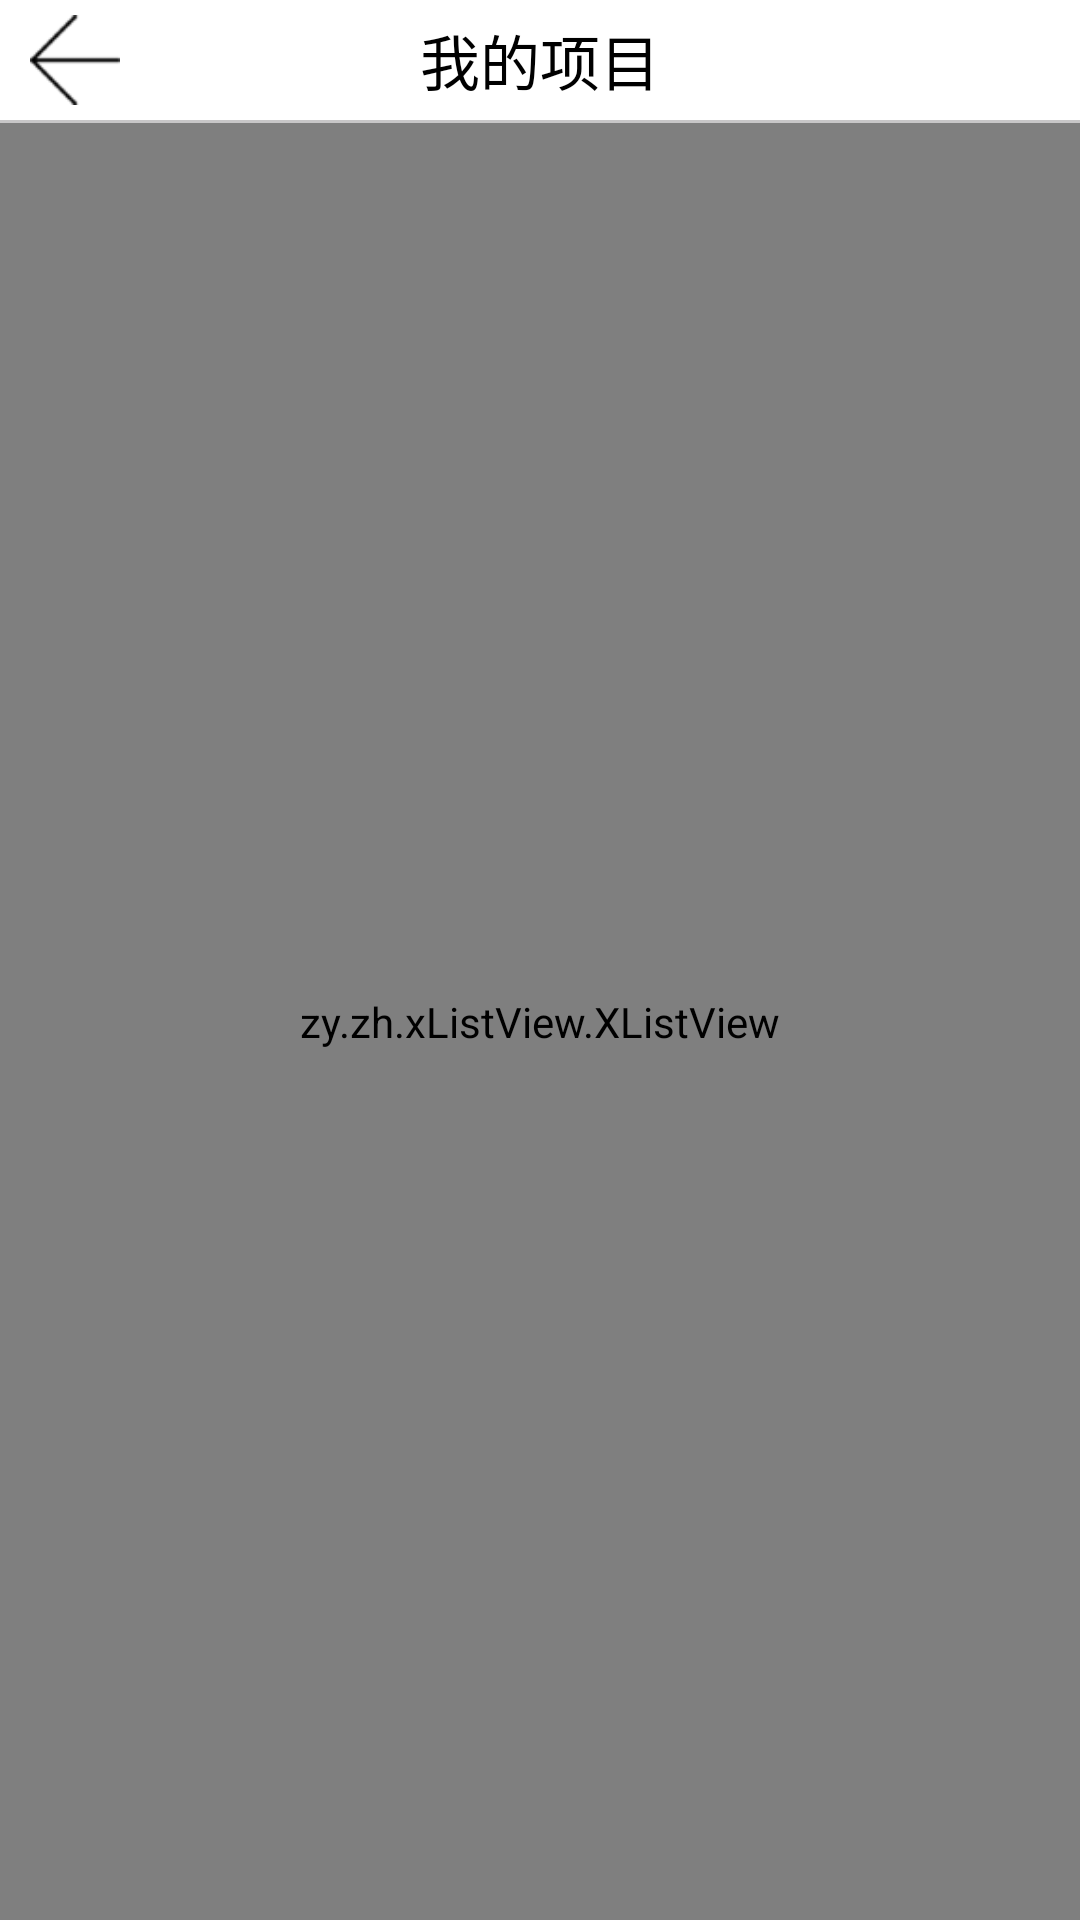

Named icons in this screenshot (1080w x 1920h) and their bounding boxes, (x1, y1, x2, y2):
left: (30, 15, 120, 105)
